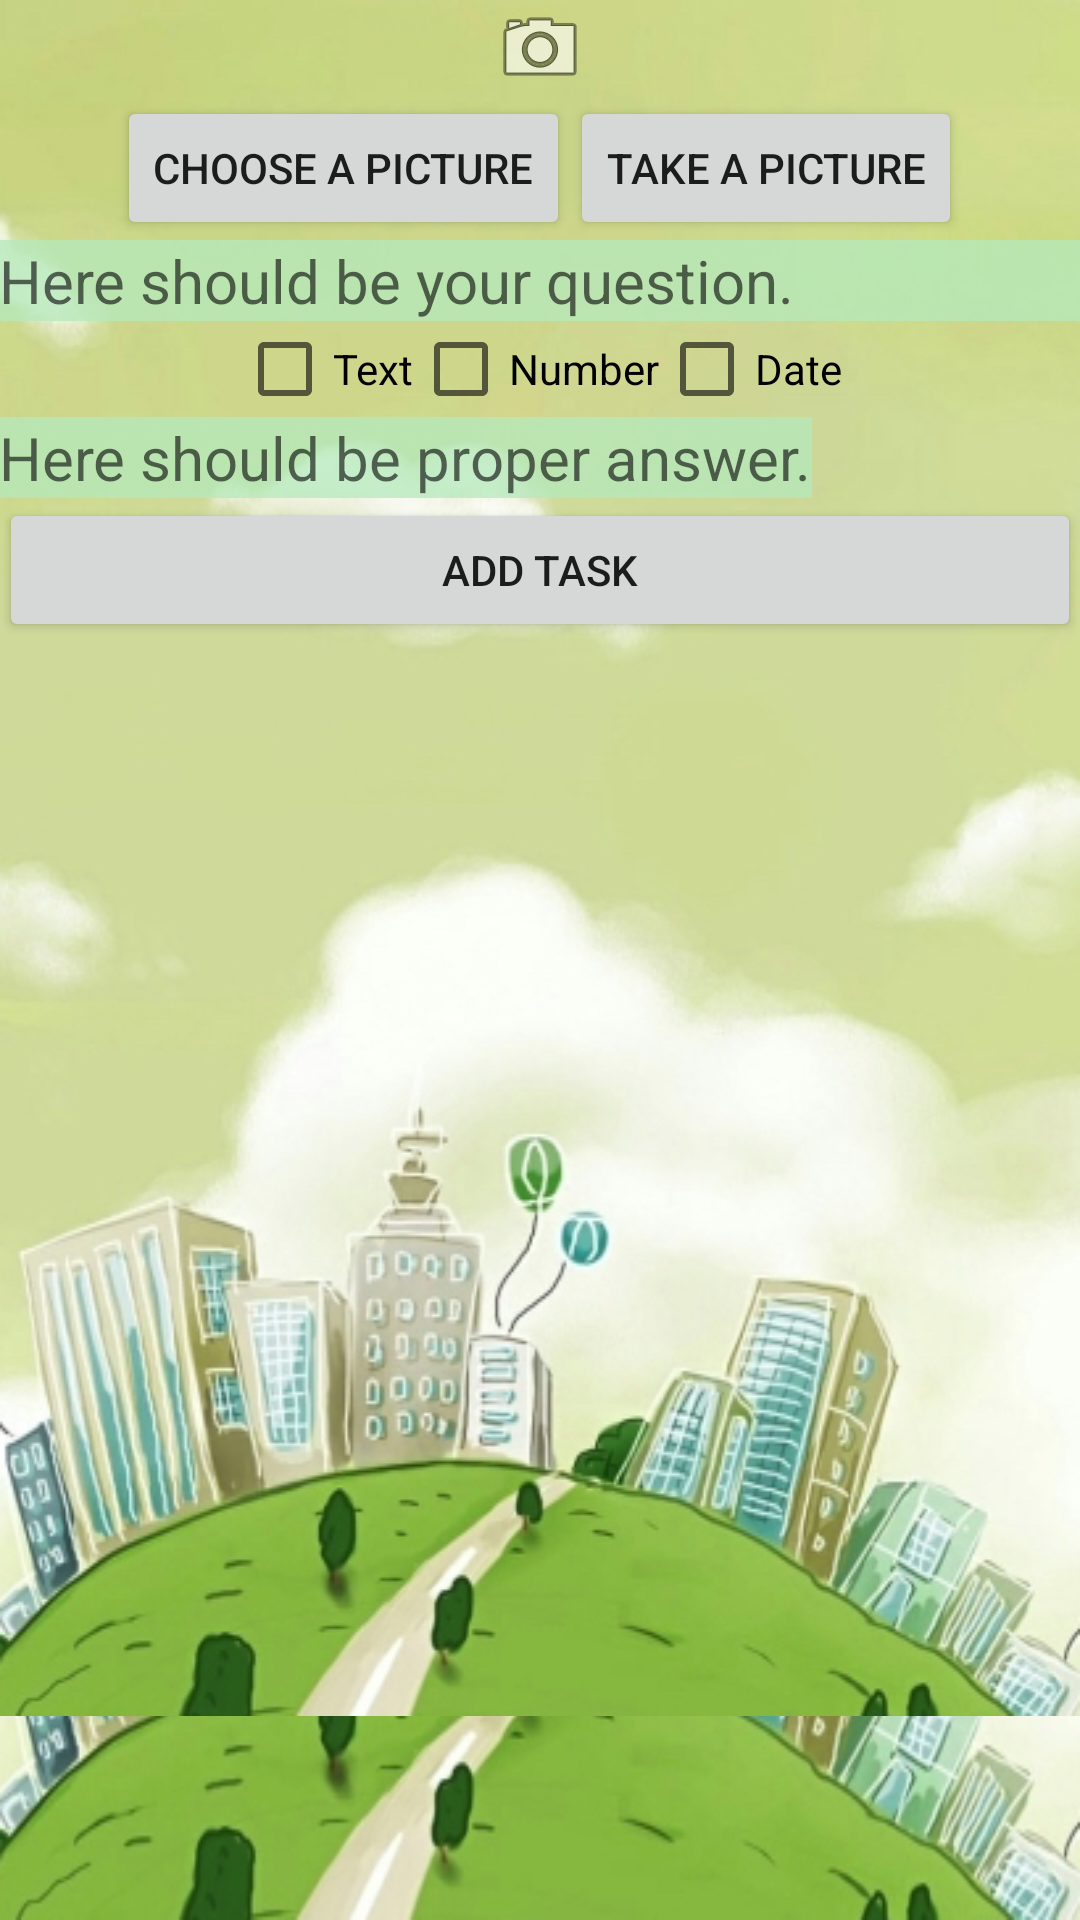

Where to tap for icons on this 1080 x 1920 app screen, as [x,y]:
camera: [540,46]
